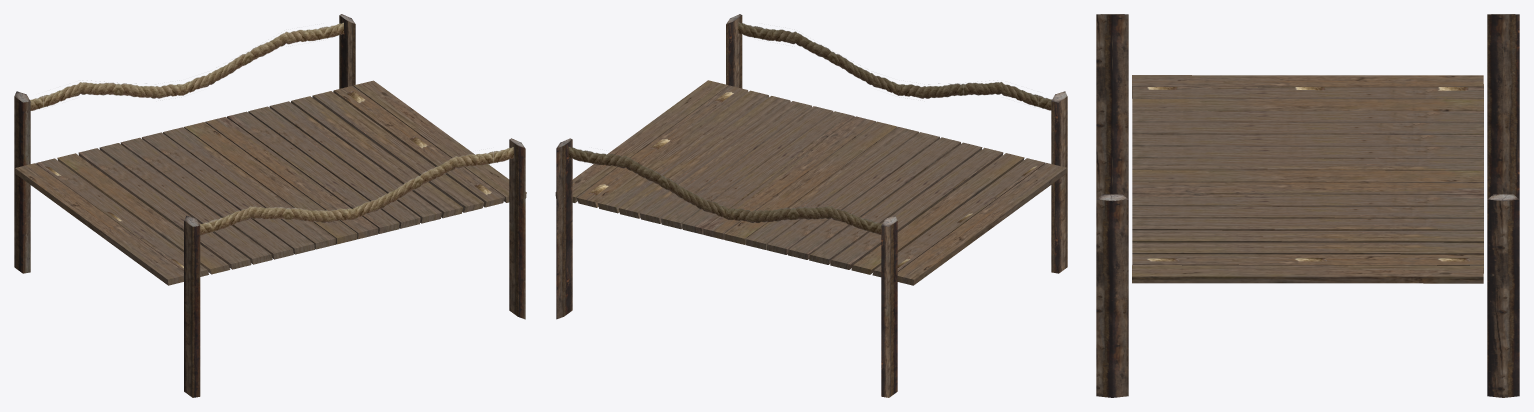
Rendered from Bridge_Walkable.glb.
The picture shows the model from 3 angles, left to right: view 1: azimuth 30°, elevation 25°; view 2: azimuth 150°, elevation 25°; view 3: azimuth 270°, elevation 25°; orthographic projection. The views are drawn at different scales.
Visible parts, largest first — view 1: Plank_00, Plank_12, Plank_05, Plank_13, Plank_11, Plank_04, Plank_14, Plank_10, Plank_09, Plank_06, Plank_07, Plank_08 (+13 smaller); view 2: Plank_00, Plank_12, Plank_05, Plank_04, Plank_11, Plank_13, Plank_10, Plank_14, Plank_09, Plank_06, Plank_07, Plank_08 (+13 smaller); view 3: Plank_16, Post_00, Post_01, Post_02, Post_03, Plank_09, Plank_10, Plank_11, Plank_12, Plank_13, Plank_08, Plank_07 (+9 smaller).
Part boxes in pixels (<box>): Plank_00: <box>15,163,183,285</box>; Plank_12: <box>269,101,441,223</box>; Plank_05: <box>120,137,293,259</box>; Plank_13: <box>291,96,462,218</box>; Plank_11: <box>248,106,420,228</box>; Plank_04: <box>99,143,272,264</box>; Plank_14: <box>312,91,483,212</box>; Plank_10: <box>227,111,399,233</box>; Plank_09: <box>205,117,378,239</box>; Plank_06: <box>142,132,314,254</box>; Plank_07: <box>163,127,336,249</box>; Plank_08: <box>184,122,357,244</box>; Plank_00: <box>897,163,1066,285</box>; Plank_12: <box>640,101,811,223</box>; Plank_05: <box>788,137,960,259</box>; Plank_04: <box>809,142,982,264</box>; Plank_11: <box>661,106,833,229</box>; Plank_13: <box>619,96,790,218</box>; Plank_10: <box>682,111,854,234</box>; Plank_14: <box>597,90,769,213</box>; Plank_09: <box>703,116,876,239</box>; Plank_06: <box>766,132,939,254</box>; Plank_07: <box>745,127,918,249</box>; Plank_08: <box>724,121,897,244</box>; Plank_16: <box>1132,265,1483,283</box>; Post_00: <box>1096,194,1128,397</box>; Post_01: <box>1487,194,1519,397</box>; Post_02: <box>1096,14,1128,199</box>; Post_03: <box>1487,14,1519,199</box>; Plank_09: <box>1132,182,1483,194</box>; Plank_10: <box>1132,194,1483,206</box>; Plank_11: <box>1132,206,1483,218</box>; Plank_12: <box>1132,218,1483,230</box>; Plank_13: <box>1132,230,1483,242</box>; Plank_08: <box>1132,170,1483,182</box>; Plank_07: <box>1132,158,1483,170</box>.
Bounding box in the file's own units: 3.29 × 1.54 × 2.92.
Materials: 1 (1 with a texture image).
